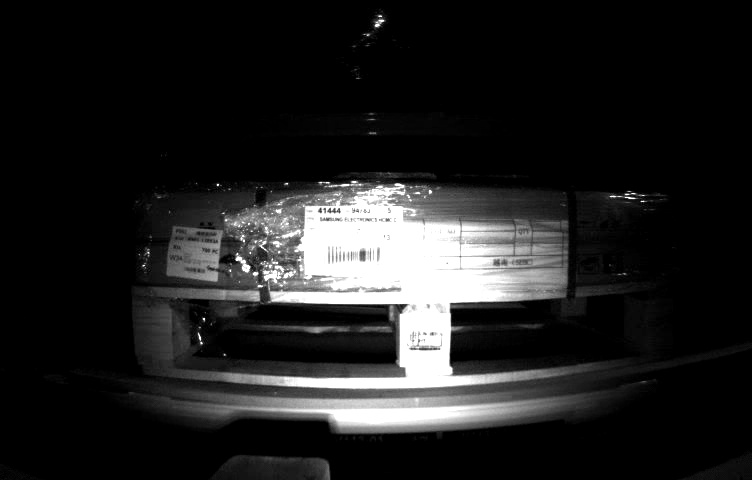True Barcode: (166, 221, 223, 286)
